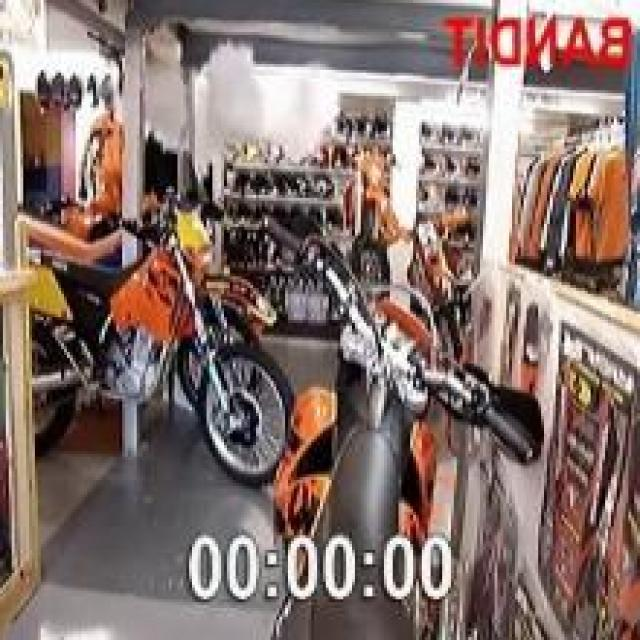fire: (196, 42, 339, 153)
